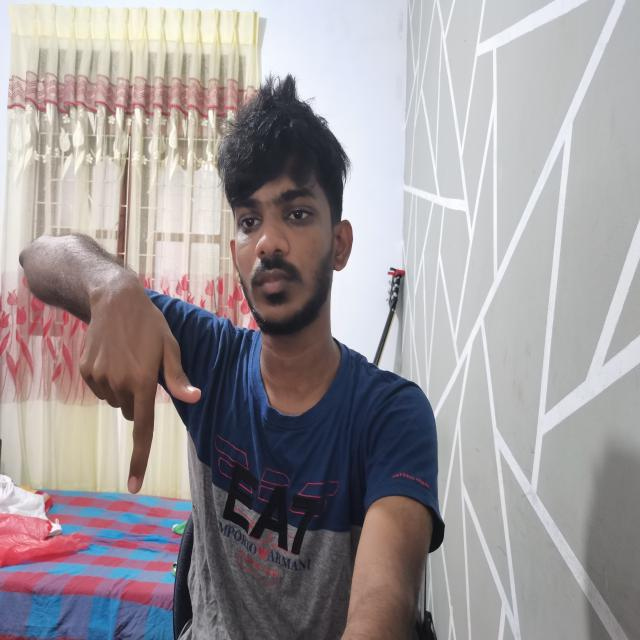Yes: (67, 267, 201, 505)
